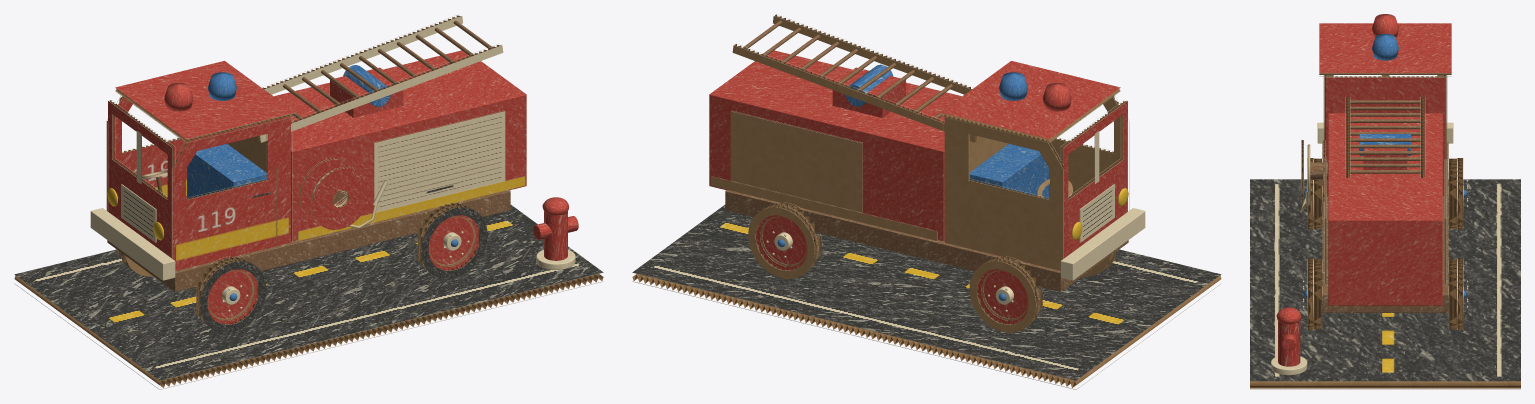
The model's file is 16_little_fire_engine.glb.
3 views of the same model, side by side, from view 1: azimuth 30°, elevation 25°; view 2: azimuth 150°, elevation 25°; view 3: azimuth 270°, elevation 25° (orthographic). The views are drawn at different scales.
Visible parts, largest first — view 1: artwork_16_little_fire_engine, red, brown, flute, cream, edge, blue, black, yellow, kraft; view 2: artwork_16_little_fire_engine, red, kraft, flute, brown, edge, blue, cream; view 3: artwork_16_little_fire_engine, red, flute, brown, edge, blue, cream, twine.
Boxes of the visible parts, box(x1,y1,x2,y2) form: artwork_16_little_fire_engine: box(15, 97, 602, 380); red: box(108, 50, 578, 324); brown: box(107, 20, 510, 291); flute: box(14, 15, 603, 387); cream: box(90, 16, 575, 311); edge: box(14, 14, 603, 389); blue: box(187, 65, 458, 300); black: box(120, 207, 487, 332); yellow: box(107, 176, 525, 240); kraft: box(125, 136, 475, 320); artwork_16_little_fire_engine: box(633, 184, 1220, 380); red: box(709, 50, 1127, 324); kraft: box(710, 16, 1127, 332); flute: box(632, 14, 1221, 387); brown: box(725, 20, 1128, 291); edge: box(632, 14, 1221, 389); blue: box(777, 64, 1048, 300); cream: box(766, 131, 1145, 311); artwork_16_little_fire_engine: box(1250, 179, 1520, 381); red: box(1276, 14, 1451, 366); flute: box(1250, 73, 1520, 388); brown: box(1310, 100, 1448, 312); edge: box(1250, 73, 1520, 389); blue: box(1304, 34, 1466, 297); cream: box(1271, 122, 1468, 375); twine: box(1300, 144, 1310, 212).
Size of the model in its own units: 0.6 by 0.297 by 0.34.
Materials: 11 (10 with a texture image).
